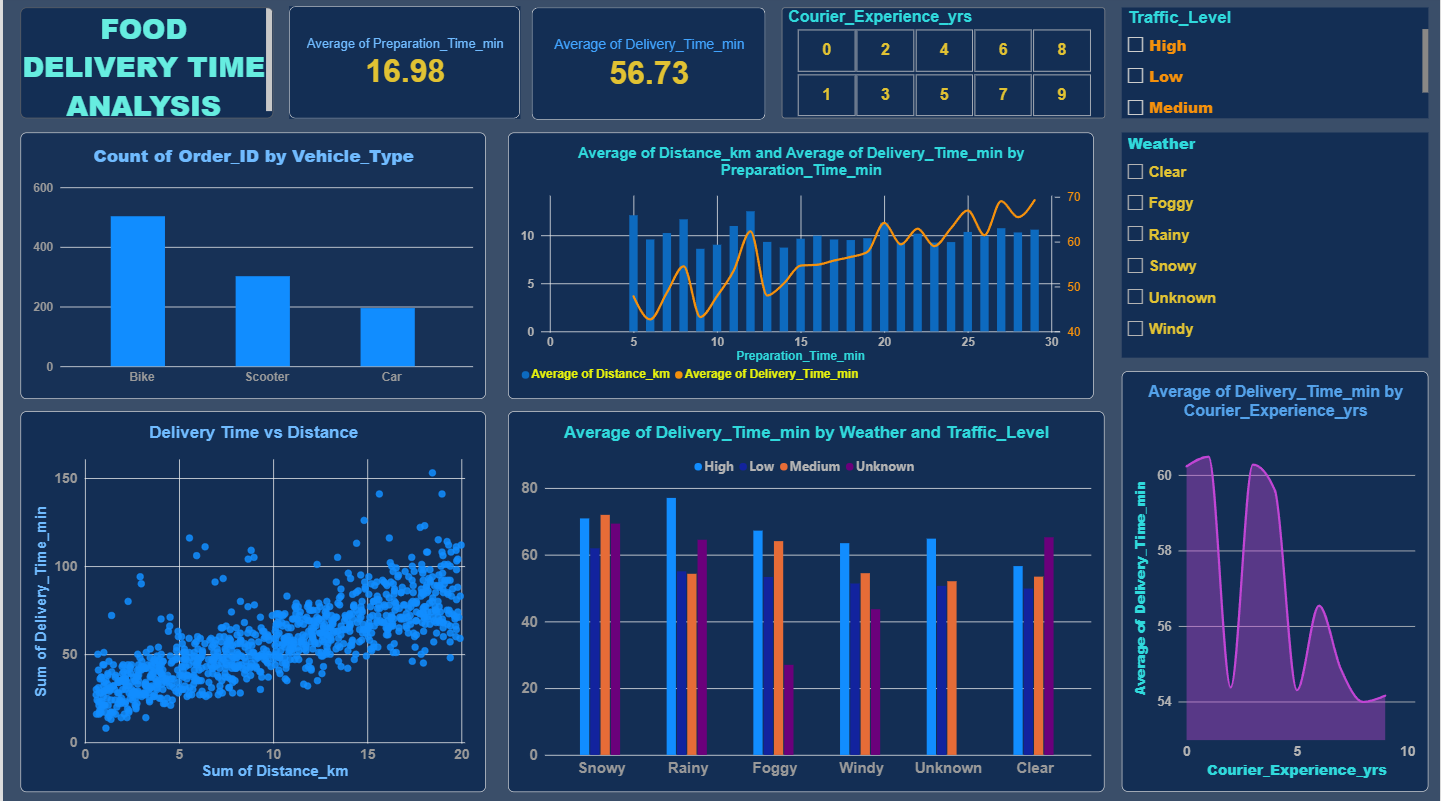

The page's visual inventory and layout, read from the dashboard file:
{"tool":"powerbi","page":{"name":"Page 1","canvas":[1920,1080],"ordinal":0},"visuals":[{"type":"columnChart","fields":{"Category":["clean_food_delivery_data.Vehicle_Type"],"Y":["CountNonNull(clean_food_delivery_data.Order_ID)"]},"box":[22.6,183.2,621.6,356.1],"z":0},{"type":"cardVisual","fields":{"Data":["Avg(clean_food_delivery_data.Delivery_Time_min)"]},"box":[706,16.5,312.9,150.3],"z":1},{"type":"cardVisual","fields":{"Data":["Avg(clean_food_delivery_data.Preparation_Time_min)"]},"box":[382.8,14.4,308.7,150.3],"z":2},{"type":"scatterChart","title":"Delivery Time vs Distance","fields":{"X":["Sum(clean_food_delivery_data.Distance_km)"],"Y":["Sum(clean_food_delivery_data.Delivery_Time_min)"],"Category":["clean_food_delivery_data.Order_ID"]},"box":[22.6,555.7,621.6,508.4],"z":3},{"type":"textbox","box":[22.6,16.5,337.6,148.2],"z":4},{"type":"slicer","fields":{"Values":["clean_food_delivery_data.Courier_Experience_yrs"]},"box":[1039.5,16.5,432.2,148.2],"z":5},{"type":"clusteredColumnChart","fields":{"Category":["clean_food_delivery_data.Weather"],"Series":["clean_food_delivery_data.Traffic_Level"],"Y":["Avg(clean_food_delivery_data.Delivery_Time_min)"]},"box":[675.1,555.7,796.6,508.4],"z":6},{"type":"slicer","fields":{"Values":["clean_food_delivery_data.Traffic_Level"]},"box":[1494.3,16.5,409.6,148.2],"z":7},{"type":"lineStackedColumnComboChart","fields":{"Y":["Avg(clean_food_delivery_data.Distance_km)"],"Category":["clean_food_delivery_data.Preparation_Time_min"],"Y2":["Avg(clean_food_delivery_data.Delivery_Time_min)"]},"box":[675.1,183.2,782.2,356.1],"z":8},{"type":"slicer","fields":{"Values":["clean_food_delivery_data.Weather"]},"box":[1494.3,183.2,409.6,300.5],"z":9},{"type":"areaChart","fields":{"Category":["clean_food_delivery_data.Courier_Experience_yrs"],"Y":["Avg(clean_food_delivery_data.Delivery_Time_min)"]},"box":[1494.3,502.2,409.6,561.9],"z":10}]}

Visuals, with their boxes in screenshot pixels (x1, y1, x2, y2), scaled from the page's 1920x1080 canvas onto the 1441x801 screenshot:
columnChart - clean_food_delivery_data.Vehicle_Type x CountNonNull(clean_food_delivery_data.Order_ID): {"left": 17, "top": 136, "right": 483, "bottom": 400}
cardVisual - Avg(clean_food_delivery_data.Delivery_Time_min): {"left": 530, "top": 12, "right": 765, "bottom": 124}
cardVisual - Avg(clean_food_delivery_data.Preparation_Time_min): {"left": 287, "top": 11, "right": 519, "bottom": 122}
"Delivery Time vs Distance" scatterChart: {"left": 17, "top": 412, "right": 483, "bottom": 789}
textbox: {"left": 17, "top": 12, "right": 270, "bottom": 122}
slicer - clean_food_delivery_data.Courier_Experience_yrs: {"left": 780, "top": 12, "right": 1105, "bottom": 122}
clusteredColumnChart - clean_food_delivery_data.Weather x clean_food_delivery_data.Traffic_Level: {"left": 507, "top": 412, "right": 1105, "bottom": 789}
slicer - clean_food_delivery_data.Traffic_Level: {"left": 1122, "top": 12, "right": 1429, "bottom": 122}
lineStackedColumnComboChart - Avg(clean_food_delivery_data.Distance_km) x clean_food_delivery_data.Preparation_Time_min: {"left": 507, "top": 136, "right": 1094, "bottom": 400}
slicer - clean_food_delivery_data.Weather: {"left": 1122, "top": 136, "right": 1429, "bottom": 359}
areaChart - clean_food_delivery_data.Courier_Experience_yrs x Avg(clean_food_delivery_data.Delivery_Time_min): {"left": 1122, "top": 372, "right": 1429, "bottom": 789}
